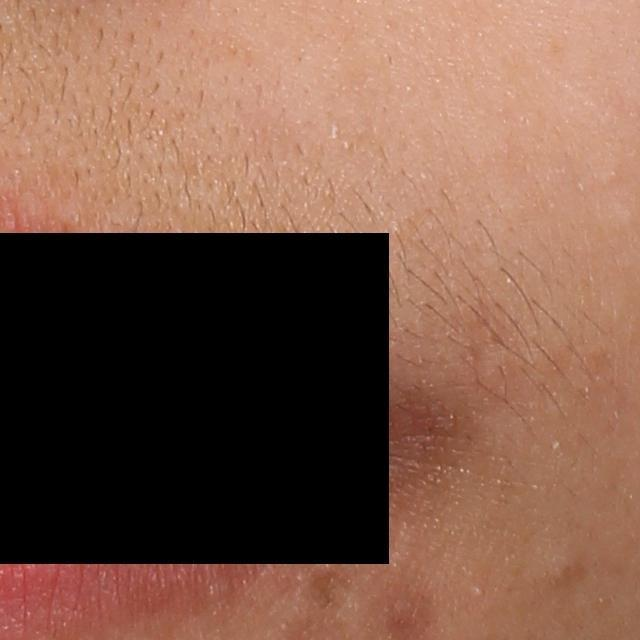comedo: (546, 557, 584, 587), (472, 585, 488, 599)
